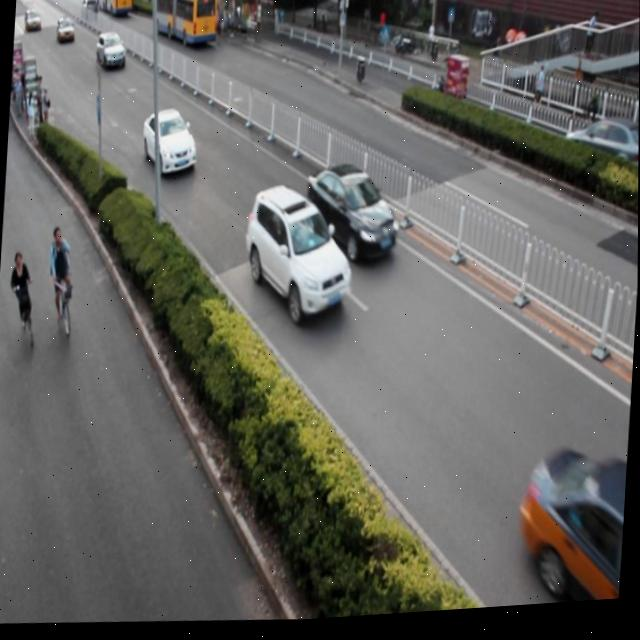car: (514, 451, 629, 613), (242, 183, 356, 332), (302, 162, 401, 275), (560, 120, 639, 202), (139, 108, 198, 184), (214, 1, 255, 42), (95, 31, 126, 74)
van: (150, 0, 218, 54)
